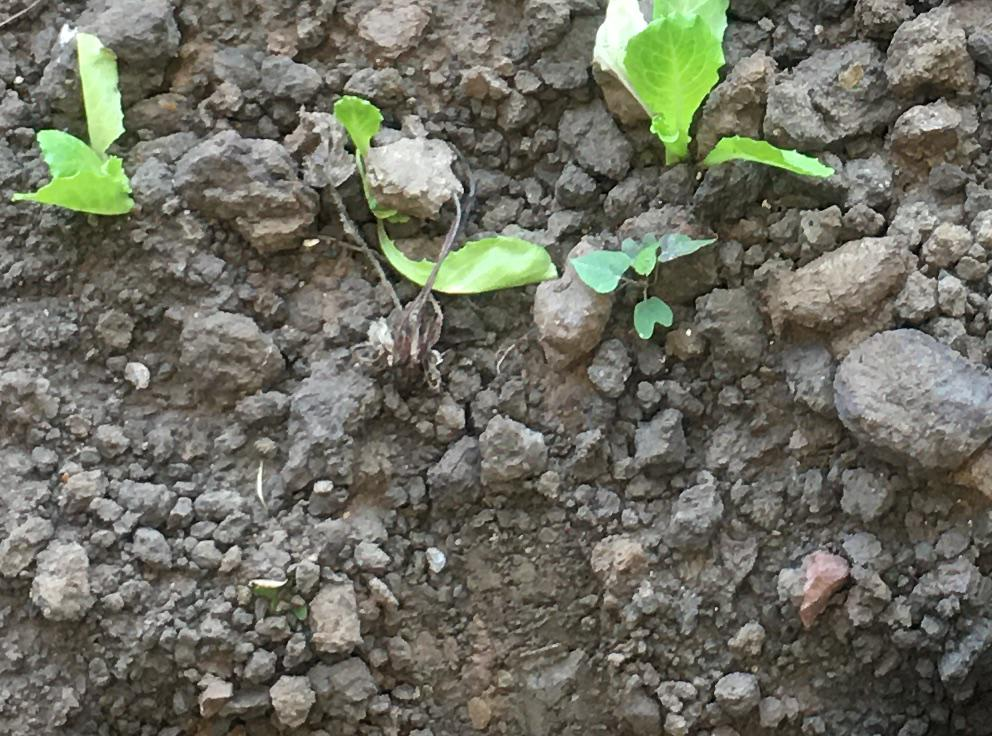block: (834, 323, 992, 481), (163, 129, 320, 250), (766, 224, 919, 327), (769, 43, 902, 150), (354, 135, 461, 218), (887, 10, 972, 97)
